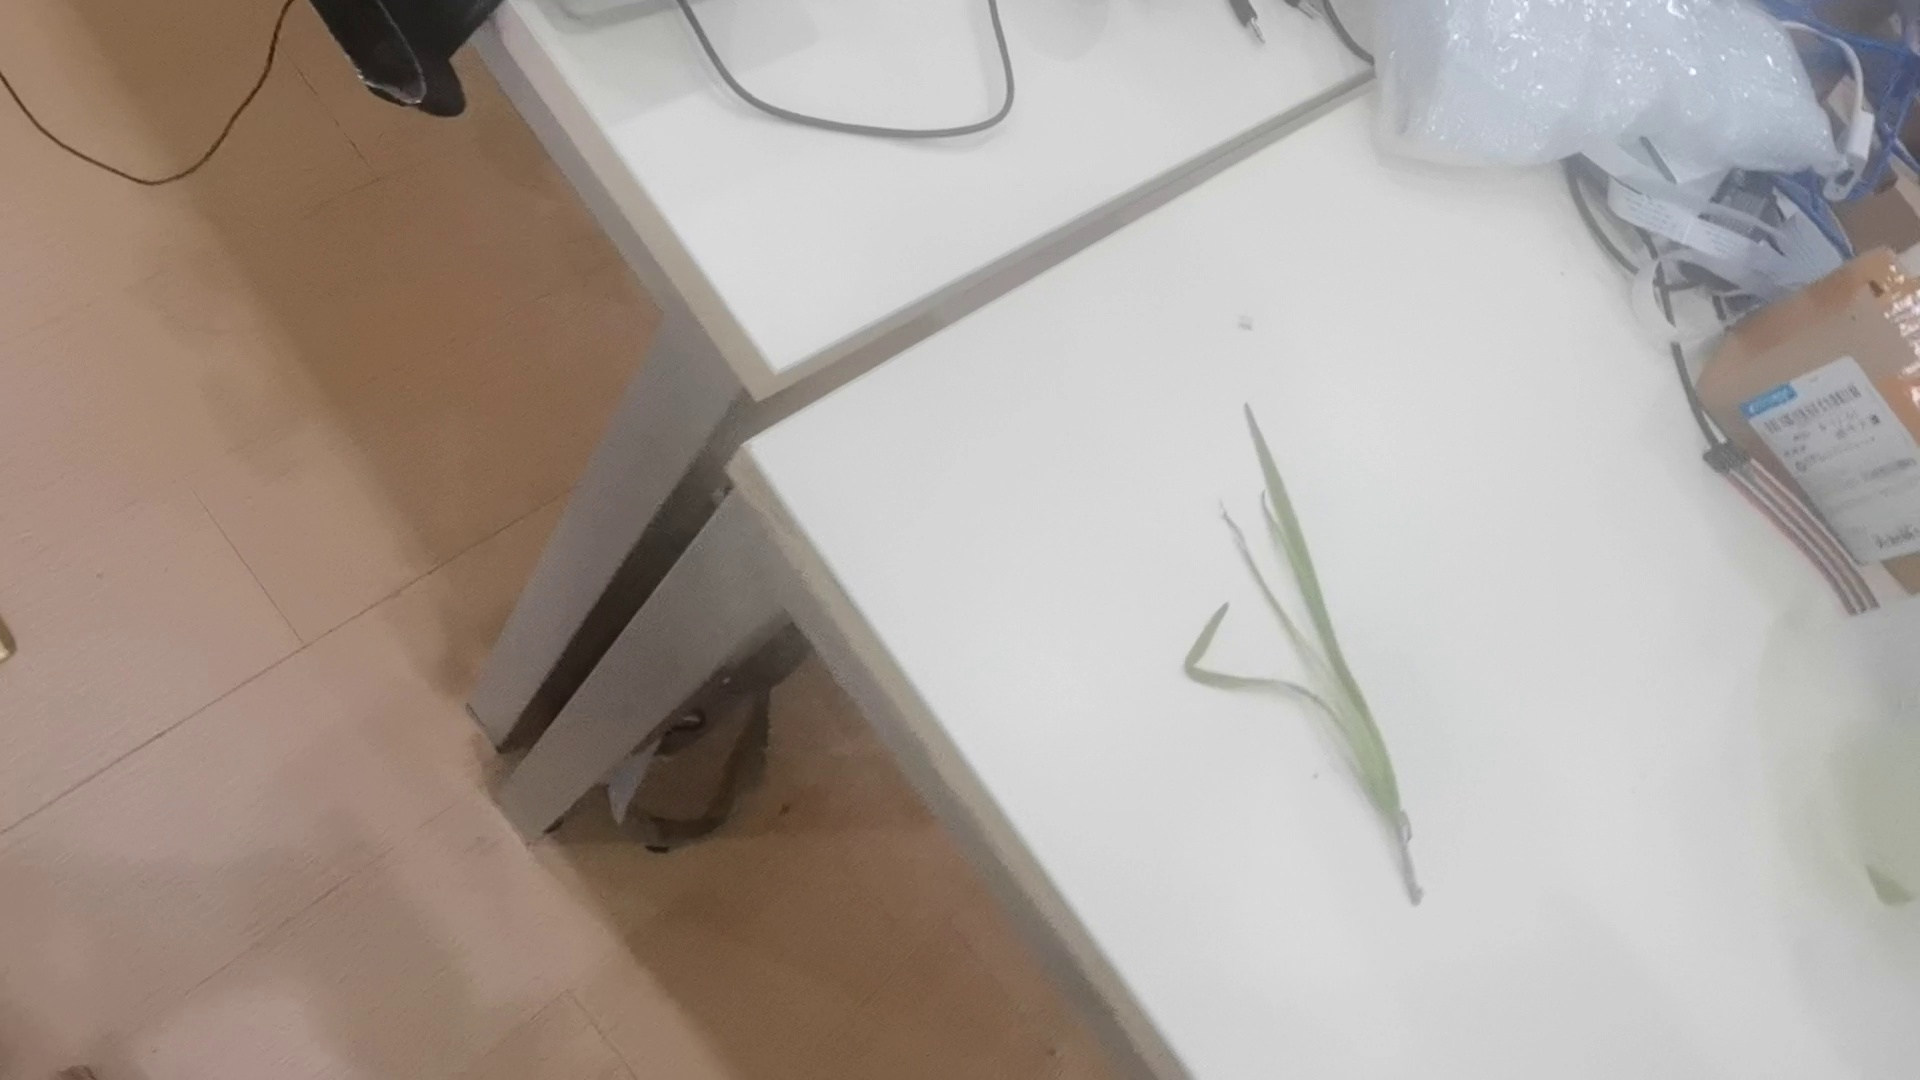chives: (1181, 404, 1435, 898)
